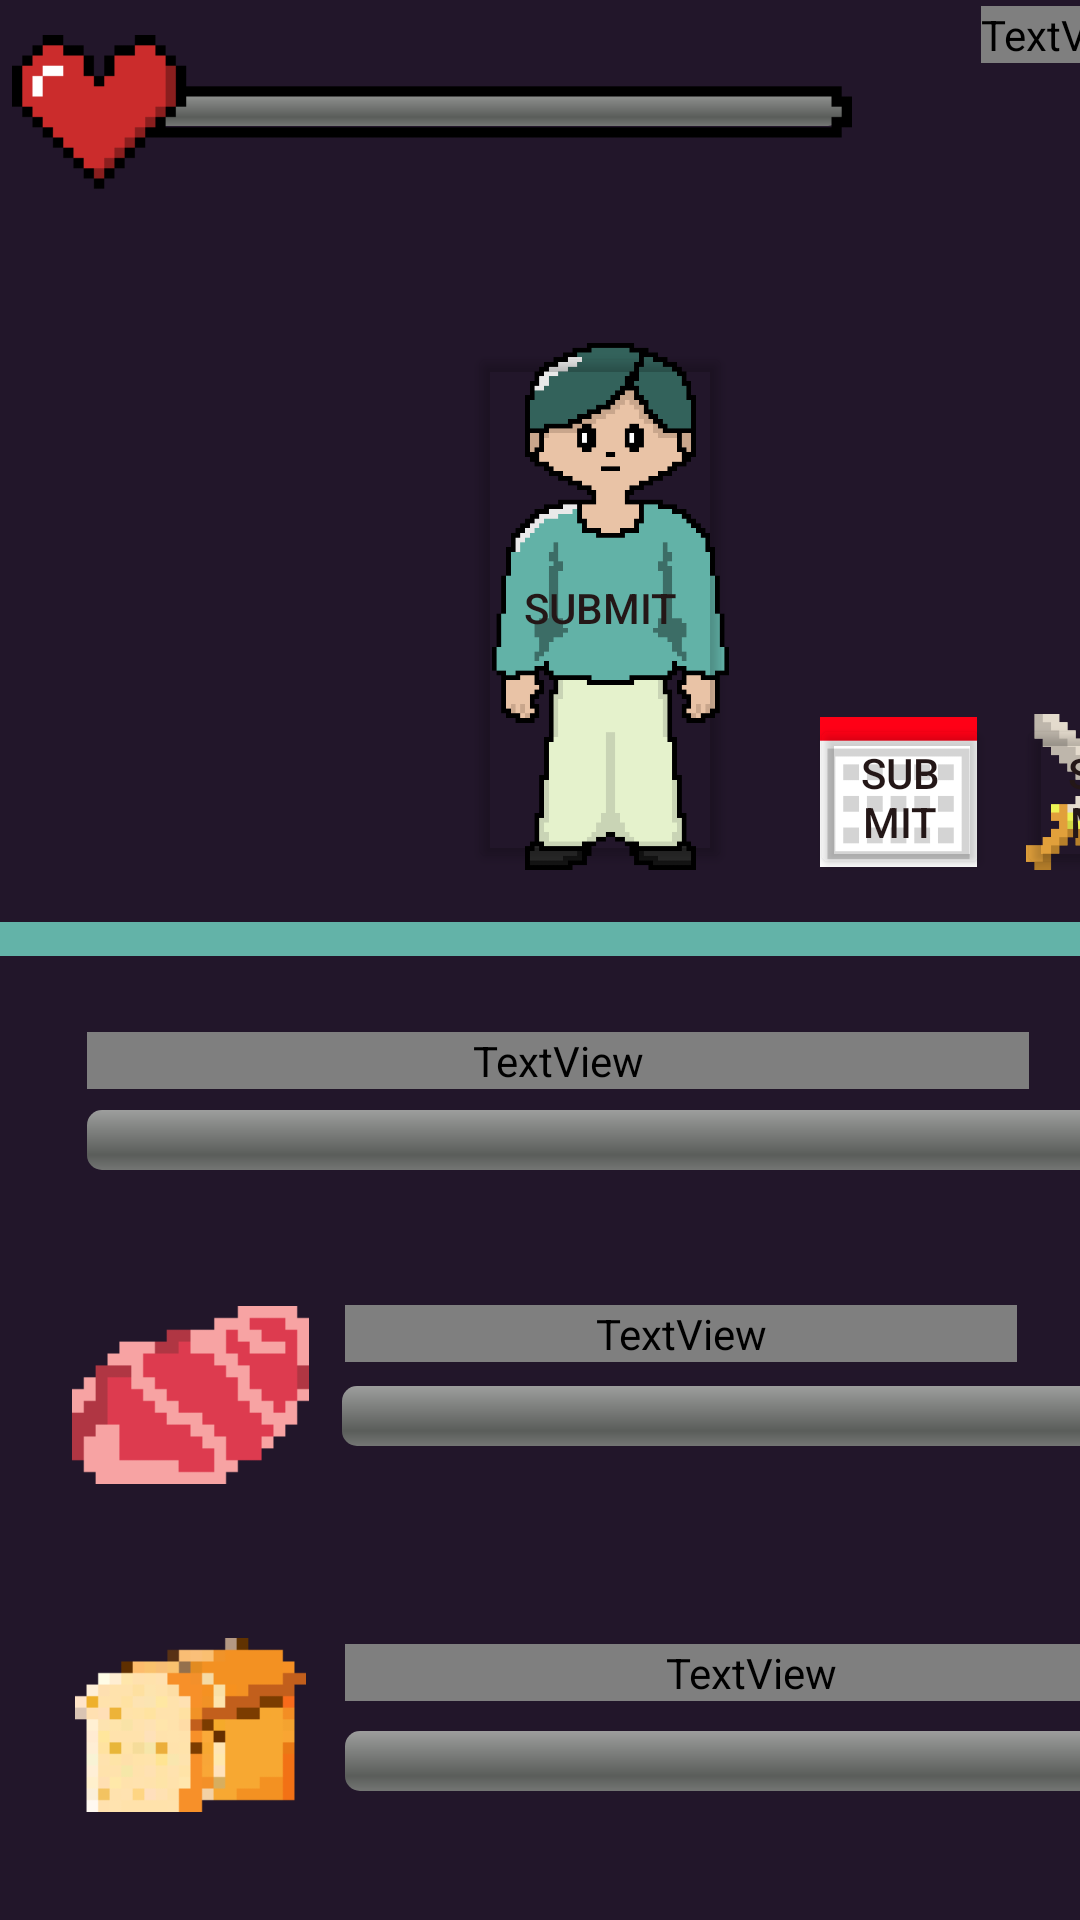

Where icons sit on this 1080x1920 app screen, as [x1=x1, y1=y1, x2=x2, y2=y2]:
bread: [x1=75, y1=1638, x2=306, y2=1812]
pork: [x1=72, y1=1306, x2=309, y2=1484]
